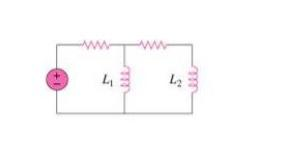resistor: (73, 30, 116, 50), (137, 33, 174, 55)
